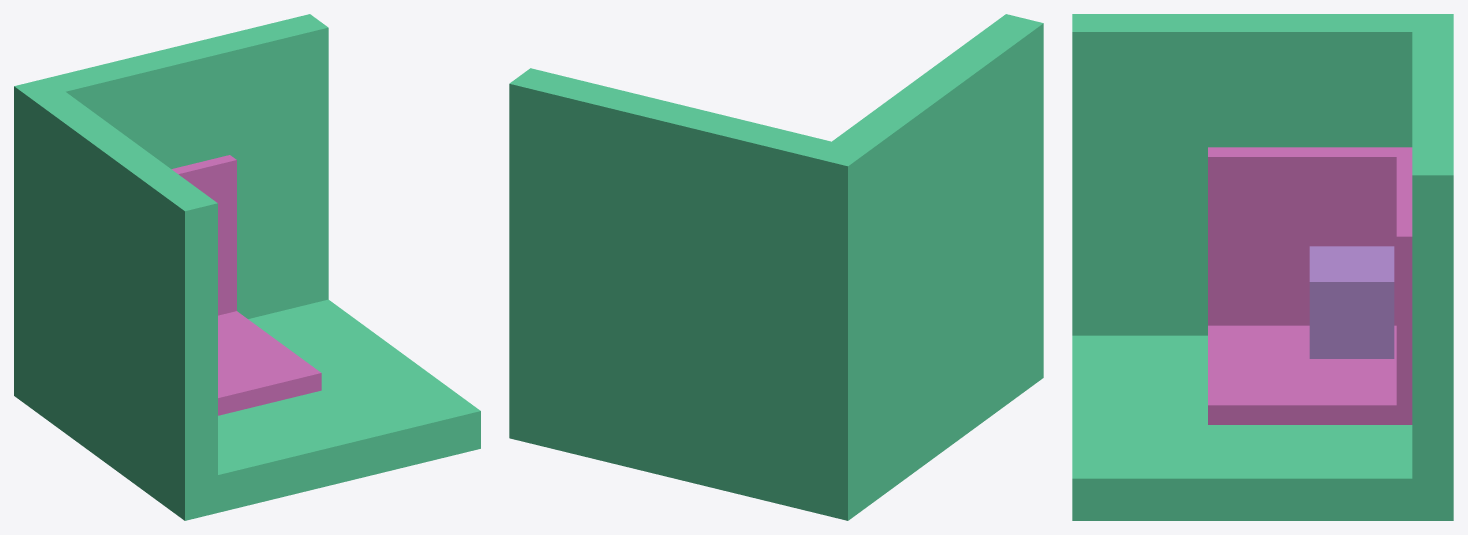
The model's file is 3Cubes.glb.
3 renders of one model, left to right at view 1: azimuth 30°, elevation 25°; view 2: azimuth 150°, elevation 25°; view 3: azimuth 270°, elevation 25°, orthographic. The views are drawn at different scales.
Parts seen in each view (by area): view 1: Mesh_Mesh_head_geo.001_lambert2SG.001; view 2: Mesh_Mesh_head_geo.001_lambert2SG.001; view 3: Mesh_Mesh_head_geo.001_lambert2SG.001.
Boxes of the visible parts, x1,y1,x2,y2 form: Mesh_Mesh_head_geo.001_lambert2SG.001: (14, 14, 480, 520); Mesh_Mesh_head_geo.001_lambert2SG.001: (509, 14, 1043, 520); Mesh_Mesh_head_geo.001_lambert2SG.001: (1072, 14, 1453, 520).
Size of the model in its own units: 90 by 90 by 90.
